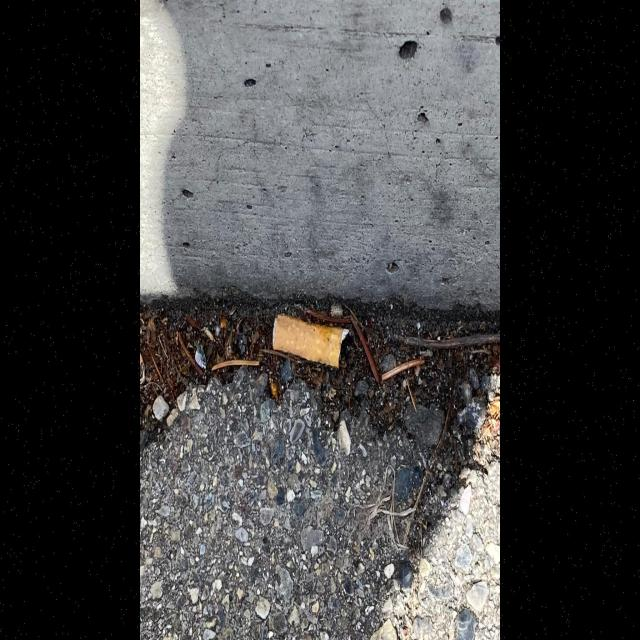other waste: (272, 312, 351, 368)
